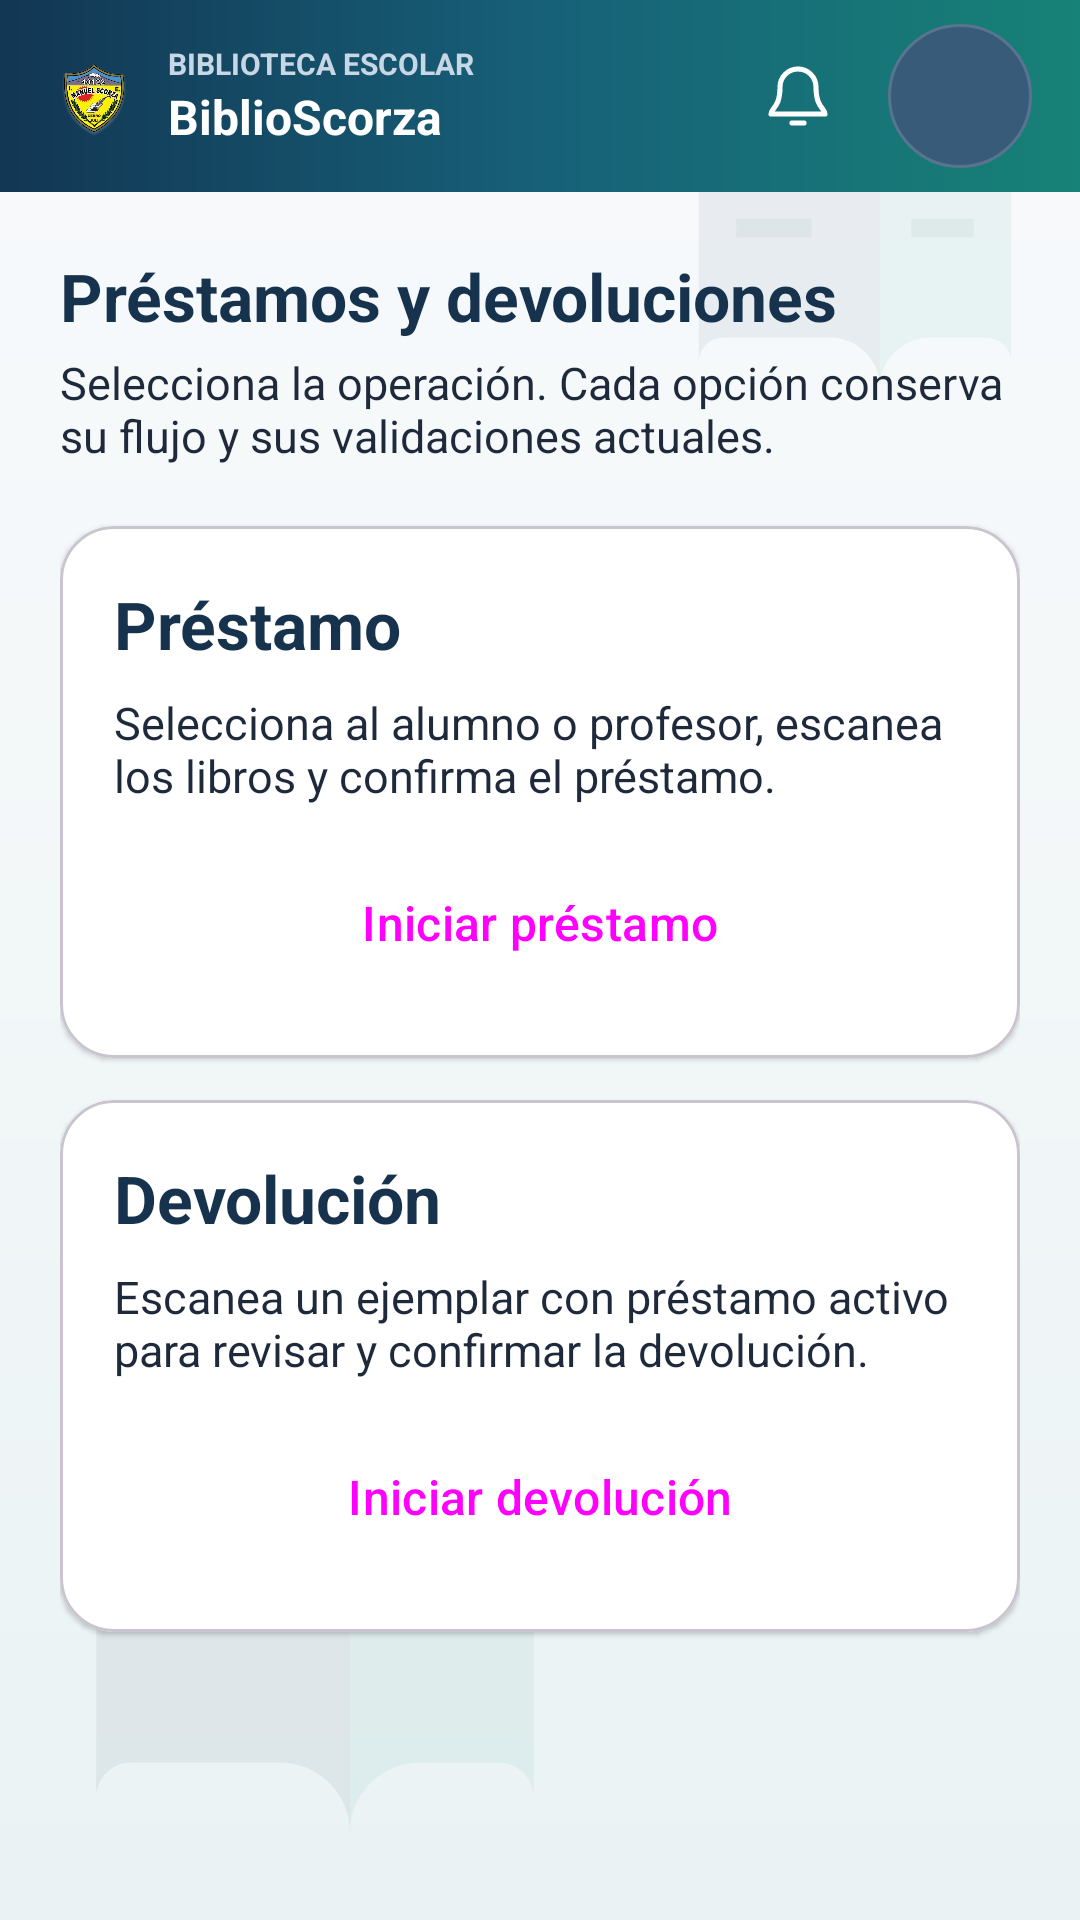

Point at icon controls on the screen. Image size 1080x1920, points as [x,y].
notifications: [798,96]
